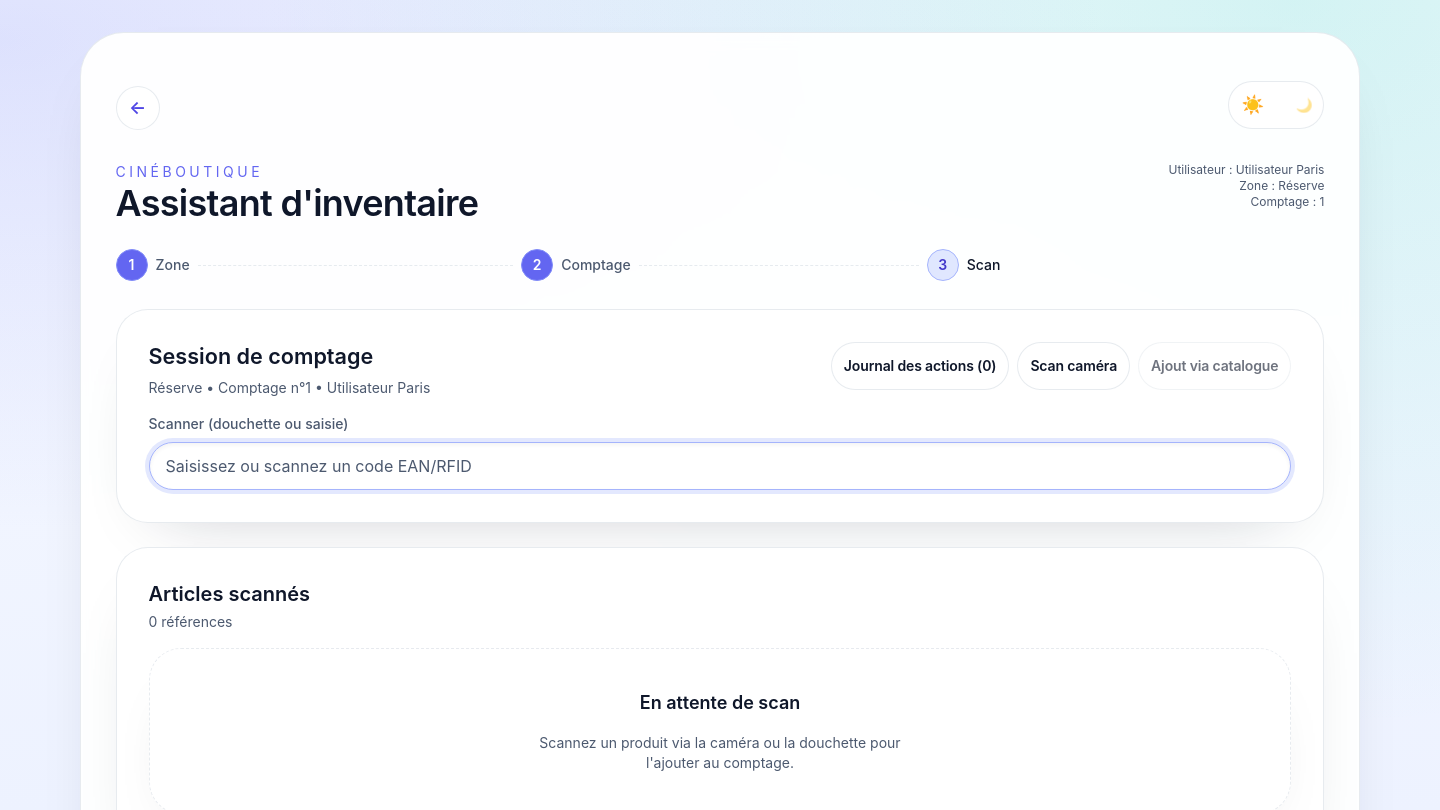
Scenario: Workflow d'inventaire › n'effectue pas de recherche produit sans boutique sélectionnée
This screenshot has width=1440, height=810.
Type "87654321" into the field labelled "Scanner (douchette ou saisie)" at (720, 466), box [148,442,1291,490]
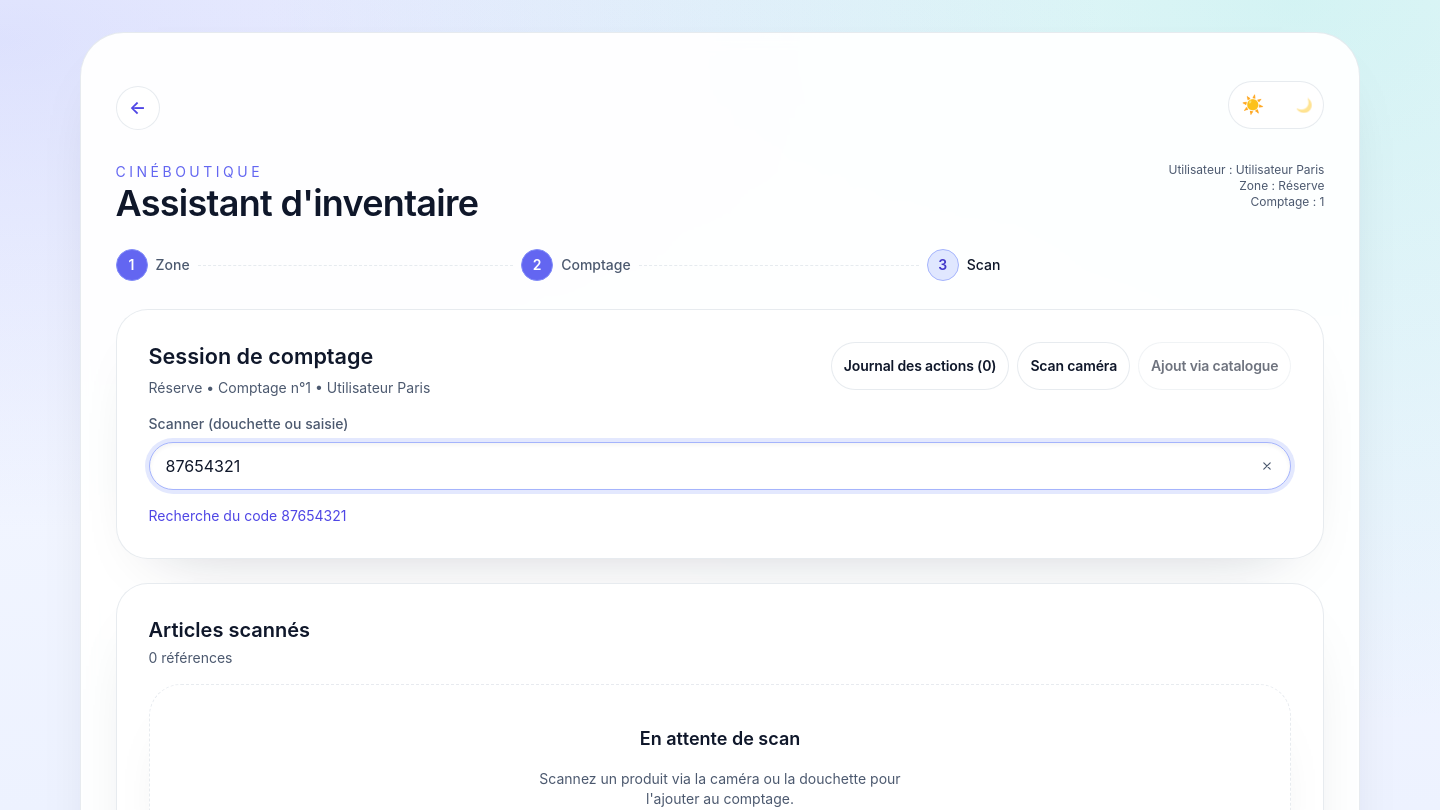
Press Enter in the field labelled "Scanner (douchette ou saisie)", box [148,442,1291,490]
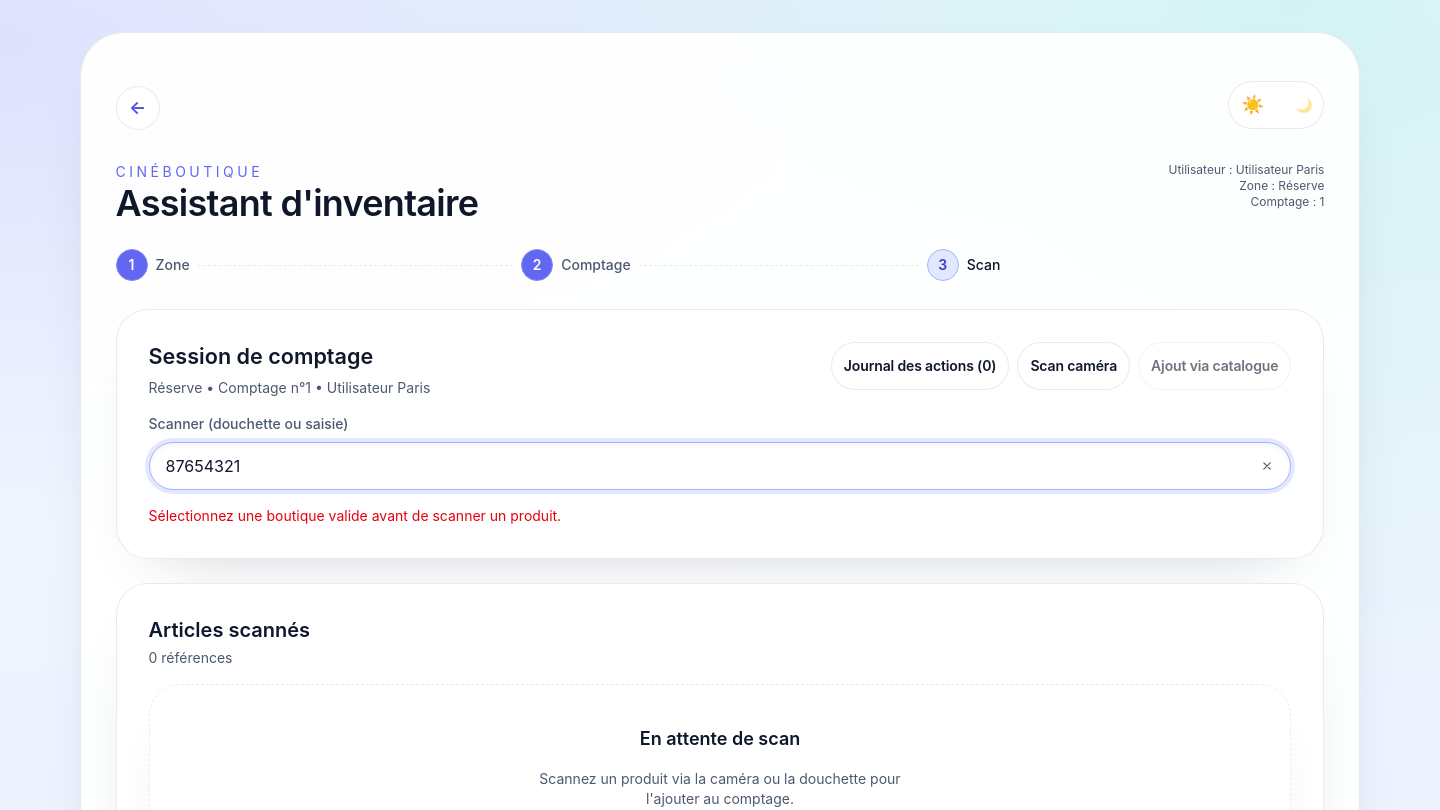
Check: the text "Sélectionnez une boutique valide avant de scanner un produit." is shown, box [148,507,561,524]
